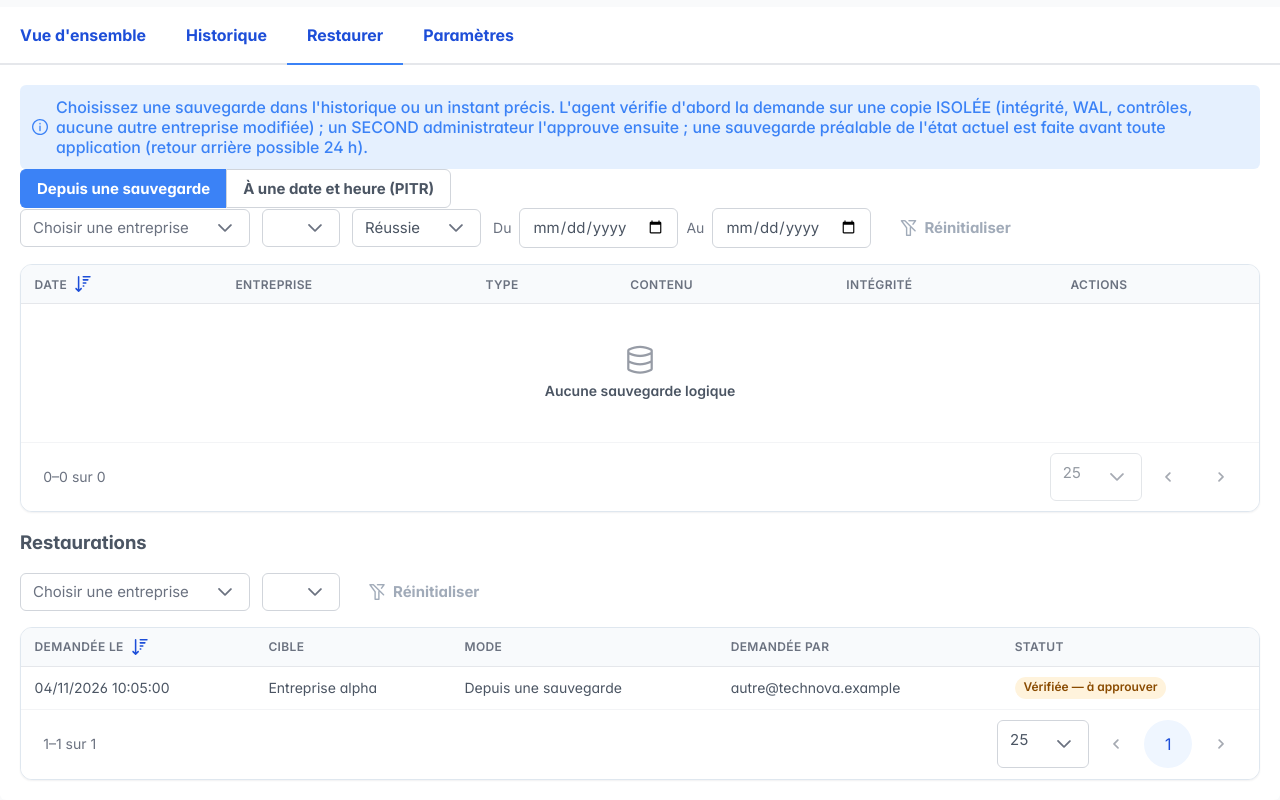
Test: console — Sauvegarder, Restaurer, Paramètres › Restaurer : le demandeur ne peut pas approuver sa propre demande
The width and height of the screenshot is (1280, 800).
(page scrolled)
Click the text "Entreprise alpha": (353,688) [255,667,451,709]
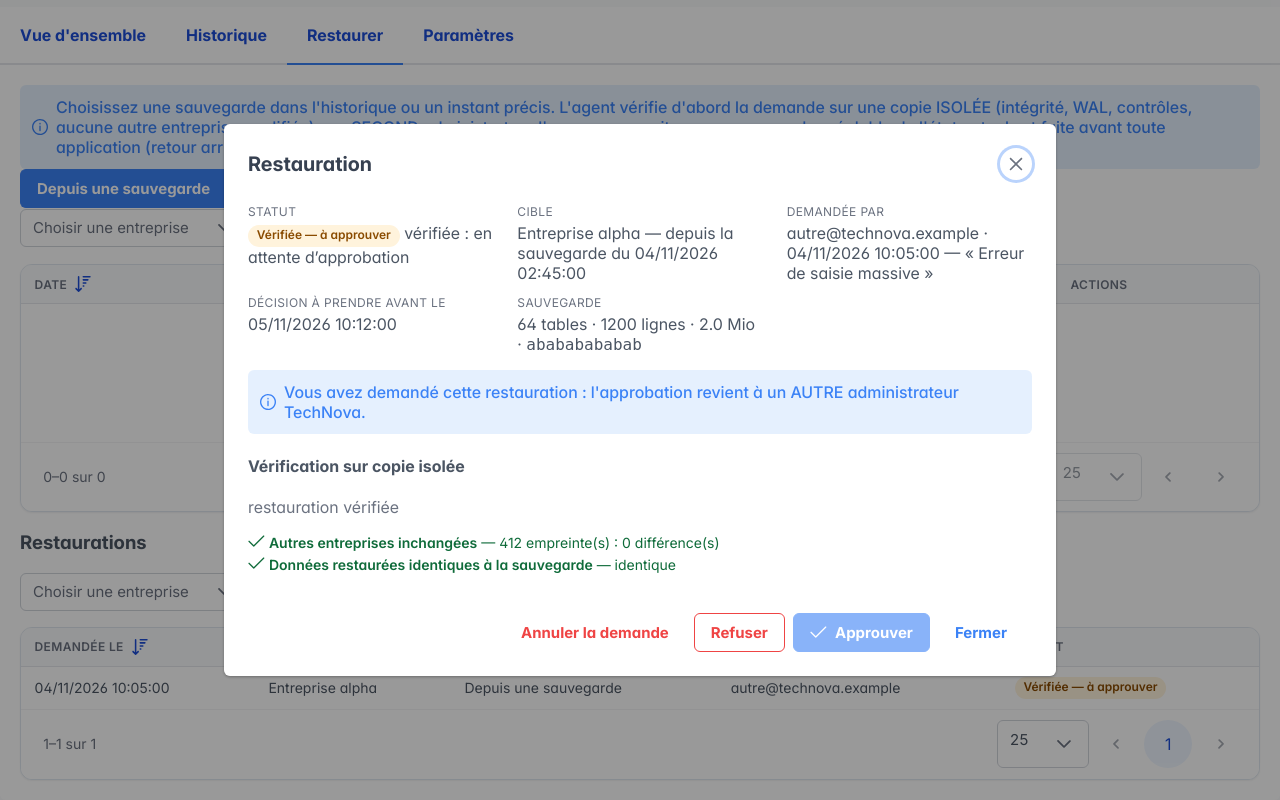
Check: the button with test id "restore-approve" is disabled, box [793,613,930,652]
Check: the text "AUTRE administrateur" is shown, box [284,382,959,422]
